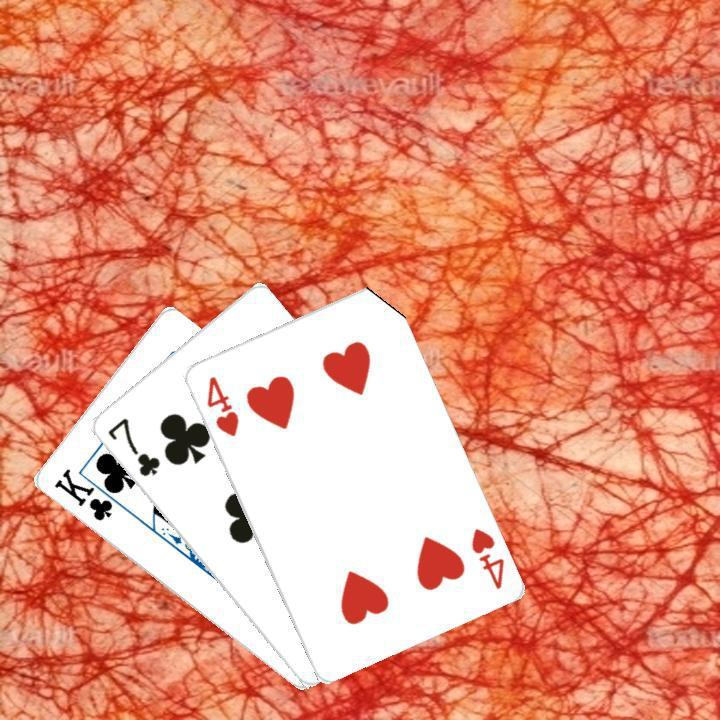4: (466, 523, 506, 591), (201, 371, 241, 438)
7: (102, 413, 162, 479)
K: (49, 464, 127, 523)
